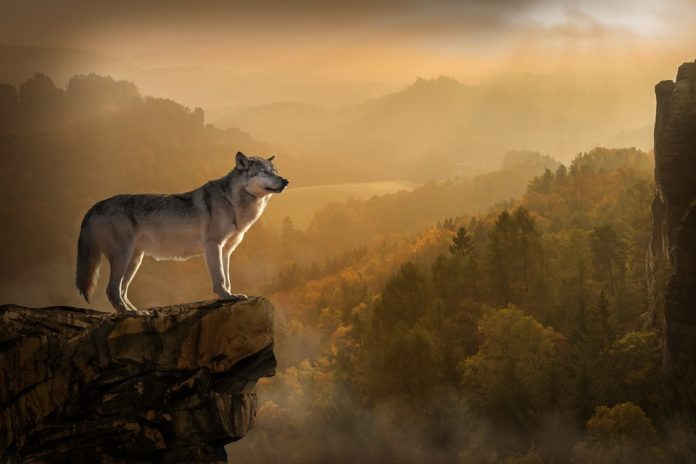Lobo: (53, 148, 299, 304)
